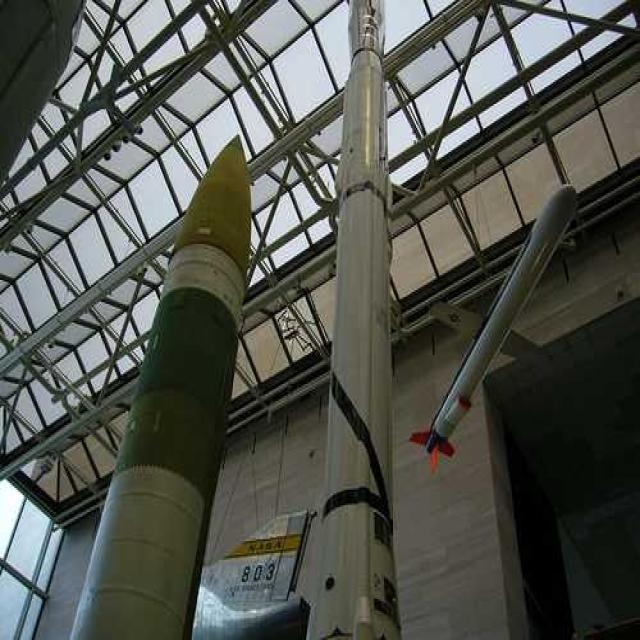missile: (70, 128, 252, 636), (306, 1, 397, 640), (417, 176, 579, 464)
